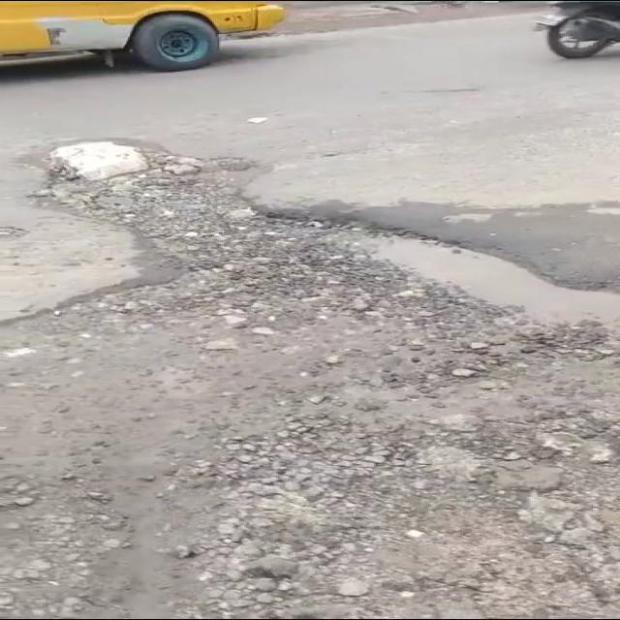lubang: (0, 138, 619, 615), (0, 228, 27, 240)
